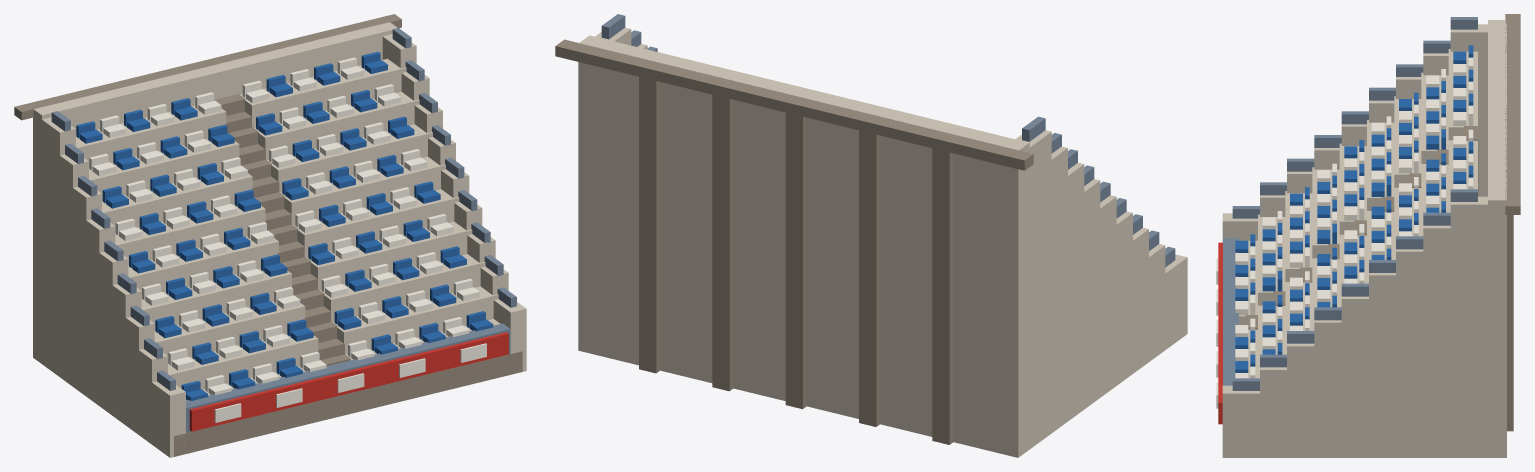
File: grandStand.glb
The picture shows the model from 3 angles, left to right: view 1: azimuth 30°, elevation 25°; view 2: azimuth 150°, elevation 25°; view 3: azimuth 270°, elevation 25°; orthographic projection. The views are drawn at different scales.
Parts seen in each view (by area): view 1: grandStand_concrete, grandStand_white, grandStand_blue, grandStand_concreteDark, grandStand_steel, grandStand_red; view 2: grandStand_concrete, grandStand_concreteDark, grandStand_steel; view 3: grandStand_concrete, grandStand_white, grandStand_blue, grandStand_steel, grandStand_concreteDark, grandStand_red.
Boxes of the visible parts, x1,y1,x2,y2 form: grandStand_concrete: (33, 22, 526, 457); grandStand_white: (89, 57, 486, 422); grandStand_blue: (76, 51, 493, 400); grandStand_concreteDark: (14, 14, 522, 456); grandStand_steel: (51, 28, 516, 432); grandStand_red: (189, 332, 508, 431); grandStand_concrete: (578, 27, 1187, 457); grandStand_concreteDark: (555, 39, 1033, 444); grandStand_steel: (601, 14, 1175, 267); grandStand_concrete: (1222, 20, 1506, 457); grandStand_white: (1216, 57, 1473, 408); grandStand_blue: (1235, 45, 1473, 372); grandStand_steel: (1223, 17, 1477, 390); grandStand_concreteDark: (1245, 14, 1520, 431); grandStand_red: (1218, 242, 1222, 424).
Bounding box in the file's own units: 19.2 × 12.26 × 12.84.
